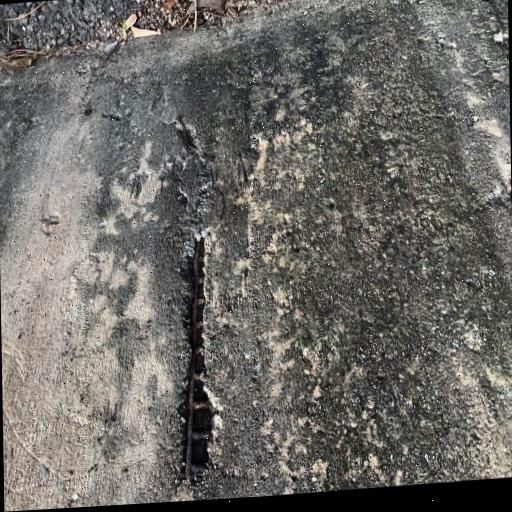exposed_rebar: (186, 238, 211, 479)
